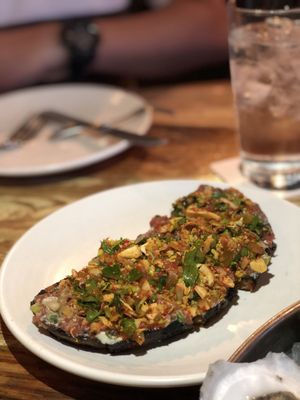sandwich: (2, 111, 169, 150)
